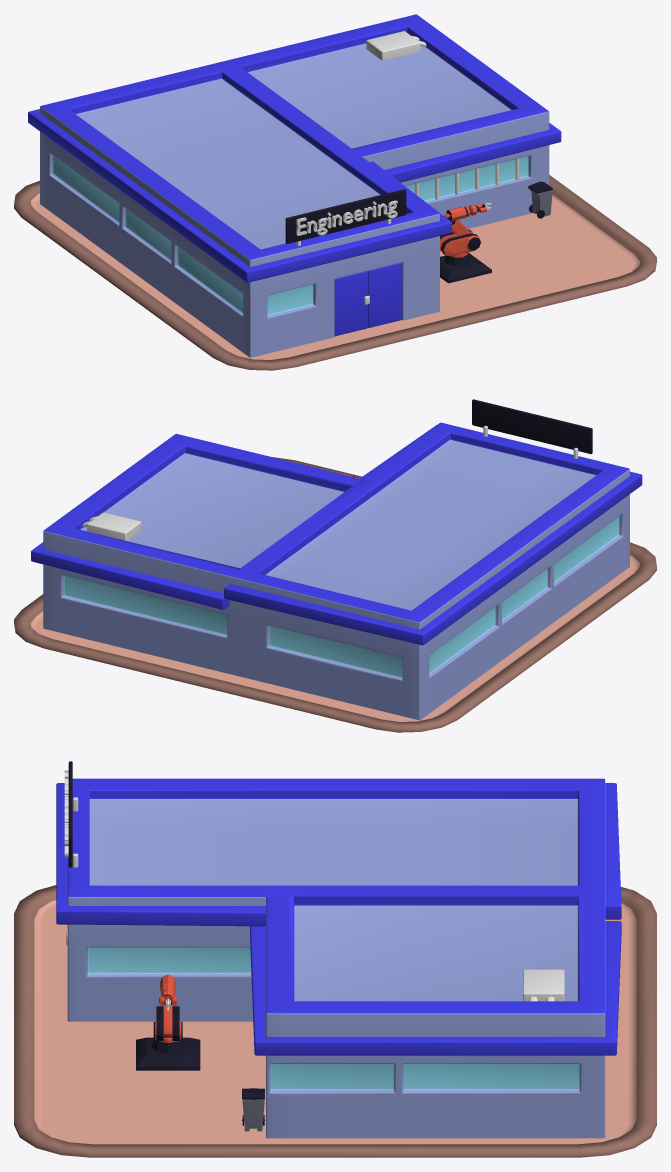
The model's file is engenharia_level_01.fbx.
3 renders of one model, top to bottom at view 1: azimuth 30°, elevation 25°; view 2: azimuth 150°, elevation 25°; view 3: azimuth 270°, elevation 25°, orthographic. The views are drawn at different scales.
Parts seen in each view (by area): view 1: Campus_Engenharia_Nivel_01, Plane.004, Braco_robo, Text.001, Campus_Engenharia_Nivel_01.004, lixeira, Campus_Engenharia_Nivel_01.003; view 2: Campus_Engenharia_Nivel_01, Plane.004, Campus_Engenharia_Nivel_01.004; view 3: Campus_Engenharia_Nivel_01, Plane.004, Braco_robo, Campus_Engenharia_Nivel_01.004, lixeira.
Boxes of the visible parts, x1=… form: Campus_Engenharia_Nivel_01: x1=28, y1=14, x2=561, y2=357; Plane.004: x1=14, y1=175, x2=656, y2=370; Braco_robo: x1=440, y1=202, x2=491, y2=283; Text.001: x1=296, y1=200, x2=397, y2=235; Campus_Engenharia_Nivel_01.004: x1=366, y1=31, x2=426, y2=60; lixeira: x1=528, y1=181, x2=552, y2=218; Campus_Engenharia_Nivel_01.003: x1=415, y1=158, x2=519, y2=199; Campus_Engenharia_Nivel_01: x1=31, y1=399, x2=642, y2=720; Plane.004: x1=14, y1=457, x2=656, y2=732; Campus_Engenharia_Nivel_01.004: x1=82, y1=512, x2=141, y2=540; Campus_Engenharia_Nivel_01: x1=56, y1=761, x2=621, y2=1138; Plane.004: x1=14, y1=885, x2=656, y2=1157; Braco_robo: x1=136, y1=974, x2=200, y2=1070; Campus_Engenharia_Nivel_01.004: x1=523, y1=969, x2=564, y2=1001; lixeira: x1=242, y1=1088, x2=264, y2=1131.
Bounding box in the file's own units: 2000 × 572 × 2000.
